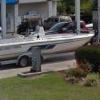Boat: (2, 21, 96, 81)
